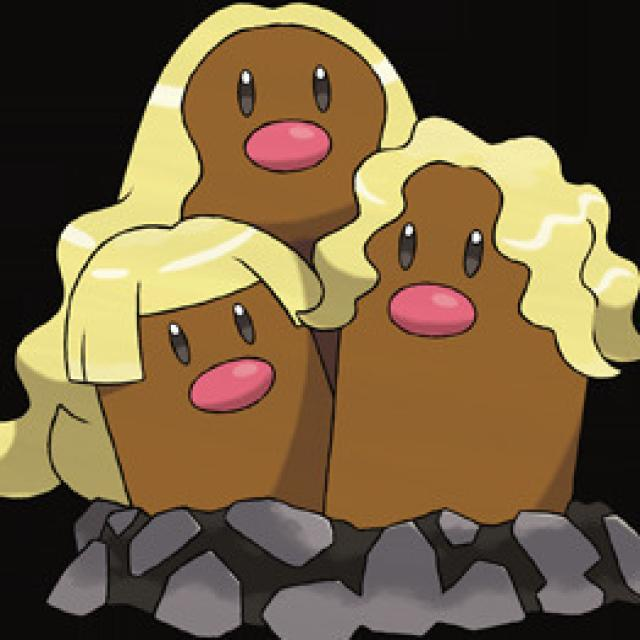Dugtrio: (40, 0, 613, 523)
